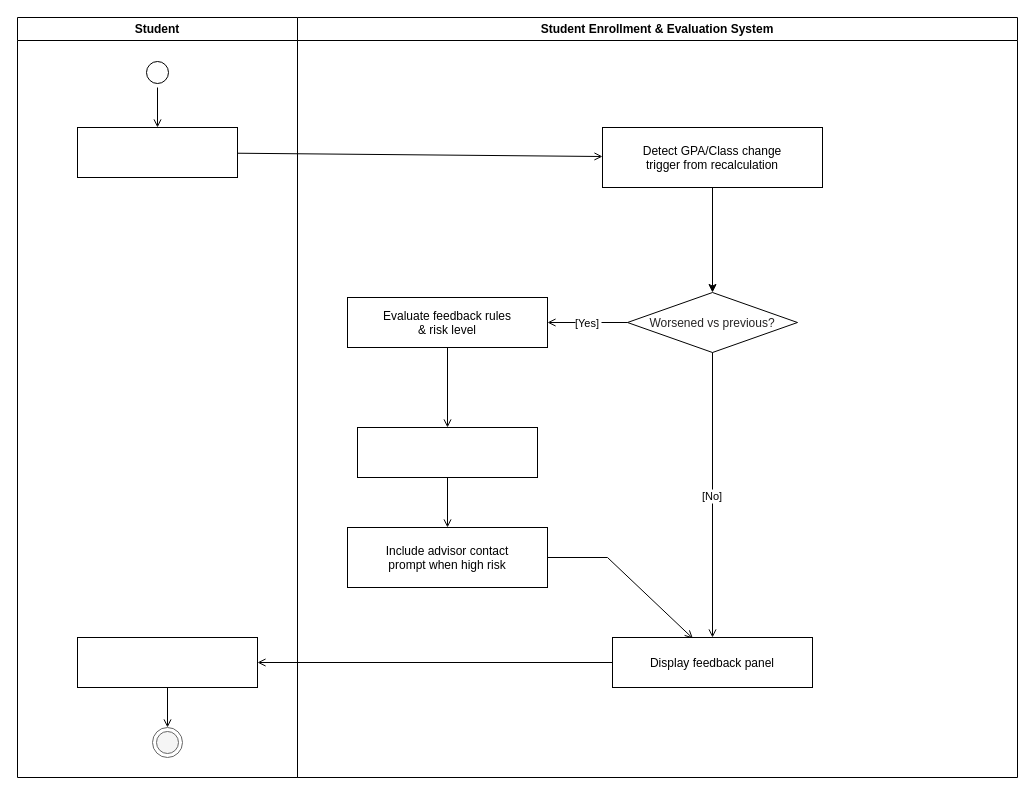
Image size: 1035x795. Some labels were removed from this diagram. Each missing label, with the centre of its shape:
"Assemble suggestions & resources" belongs at pixel 447 452.
"Open GPA & Class page" belongs at pixel 157 152.
"Review suggestions & acknowledge" belongs at pixel 167 662.
